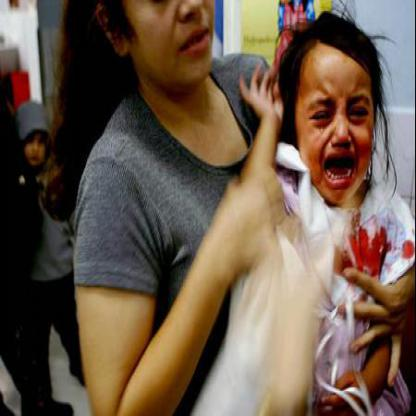face: (294, 24, 377, 207), (24, 115, 50, 169)
